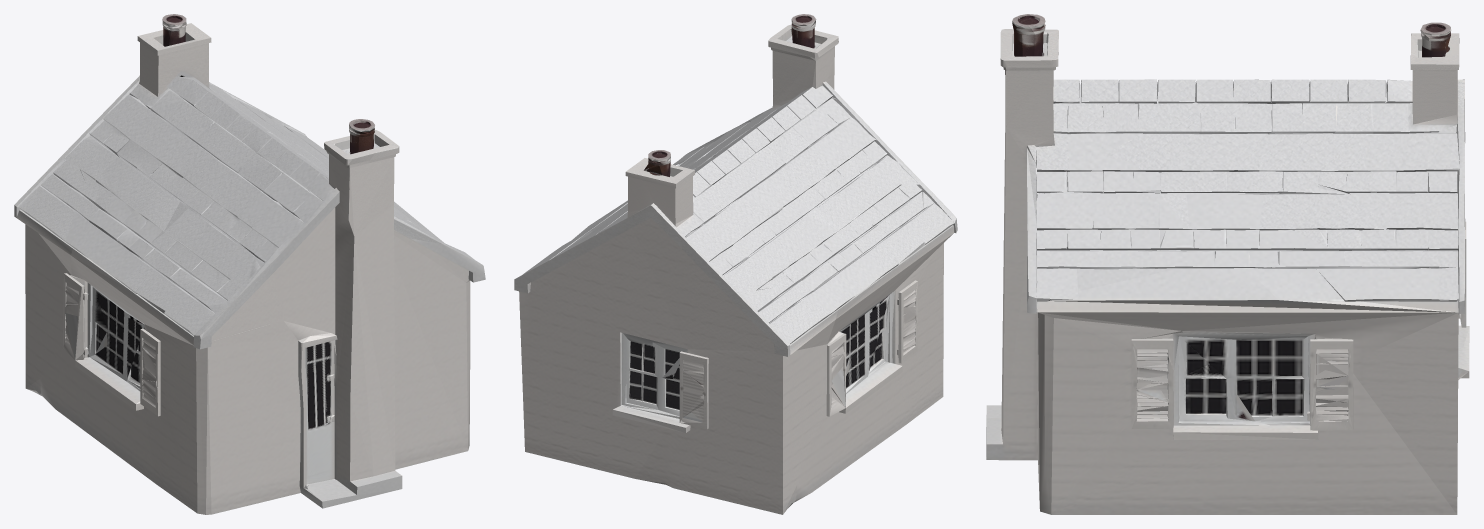
The model's file is bermuda-house-c.glb.
3 views of the same model, side by side, from view 1: azimuth 30°, elevation 25°; view 2: azimuth 150°, elevation 25°; view 3: azimuth 270°, elevation 25° (orthographic). The views are drawn at different scales.
Visible parts, largest first — view 1: output_unwrapped; view 2: output_unwrapped; view 3: output_unwrapped.
Boxes of the visible parts, x1,y1,x2,y2 form: output_unwrapped: (14, 14, 485, 514); output_unwrapped: (514, 14, 957, 514); output_unwrapped: (986, 14, 1469, 514).
Size of the model in its own units: 1.58 by 1.85 by 1.9.
Materials: 1 (1 with a texture image).
